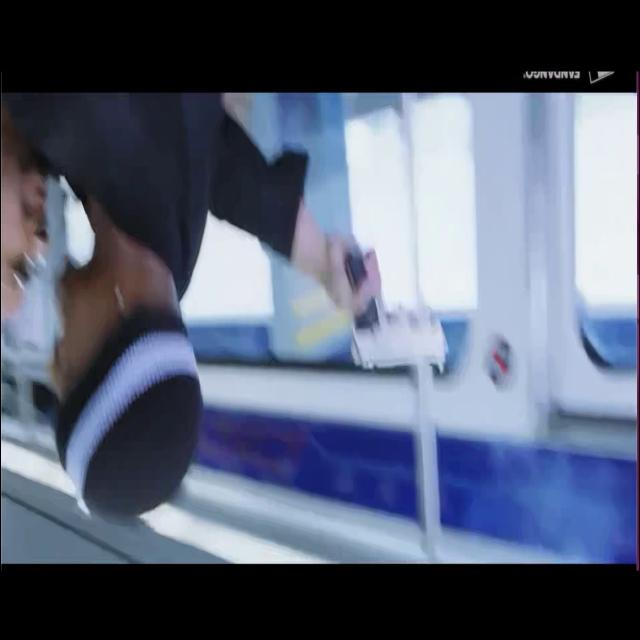weapons: (338, 225, 458, 420)
